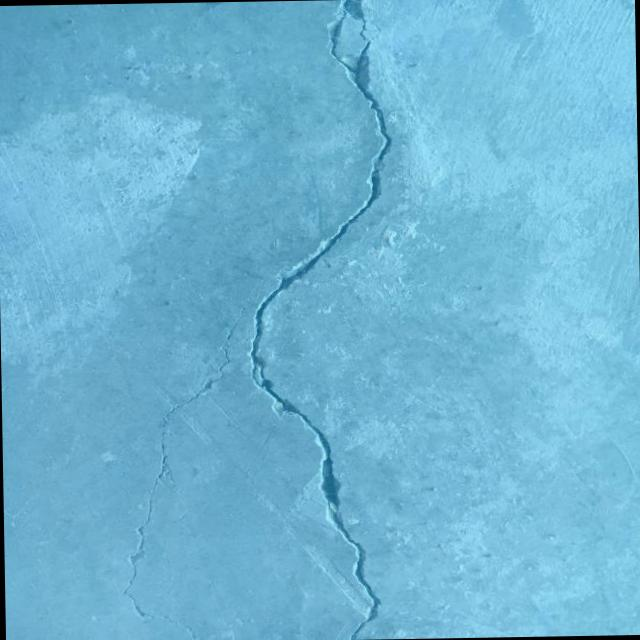crack: (243, 0, 401, 640), (118, 307, 251, 640)
